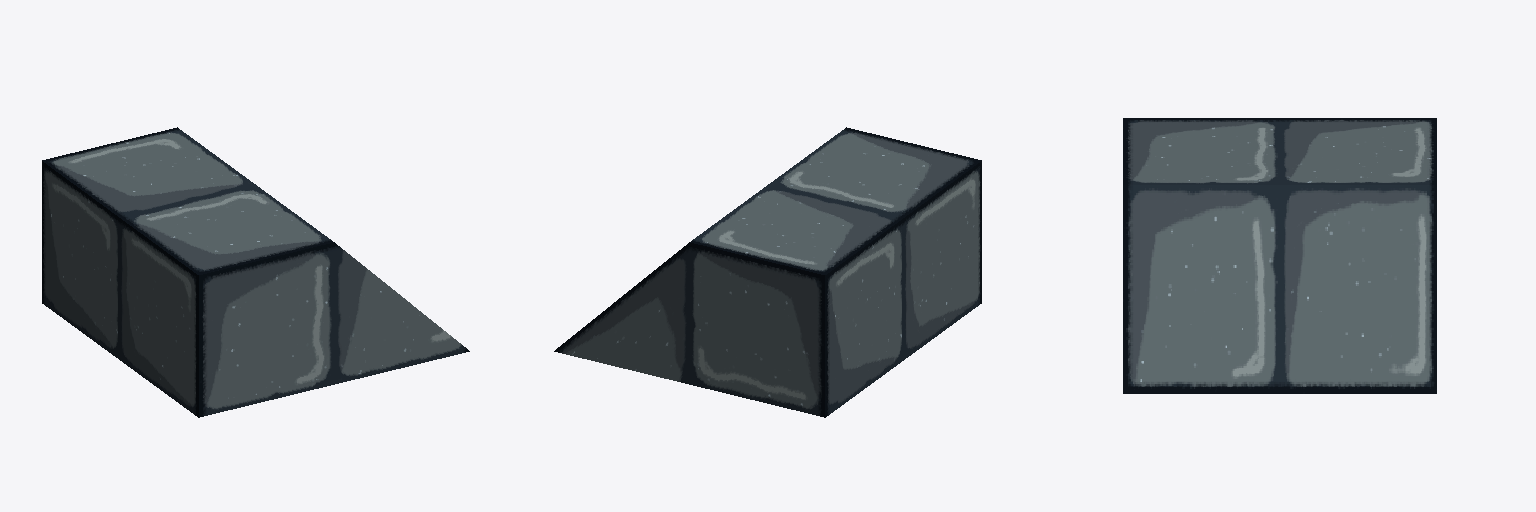
3 views of the same model, side by side, from view 1: azimuth 30°, elevation 25°; view 2: azimuth 150°, elevation 25°; view 3: azimuth 270°, elevation 25° (orthographic).
Parts seen in each view (by area): view 1: 2_stone; view 2: 2_stone; view 3: 2_stone.
Boxes of the visible parts, box(x1,y1,x2,y2) form: 2_stone: box(42, 127, 469, 417); 2_stone: box(554, 127, 981, 417); 2_stone: box(1123, 118, 1436, 393).
Size of the model in its own units: 1 by 0.5 by 1.
1 materials, 1 textured.